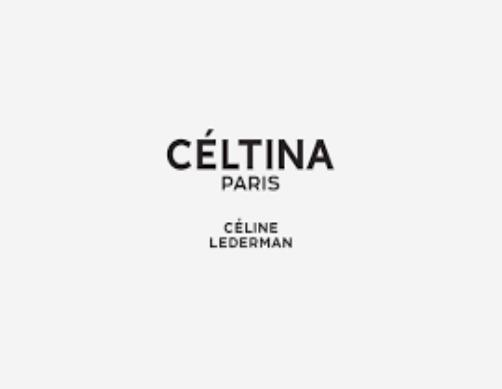CELINE: (156, 118, 336, 172)
